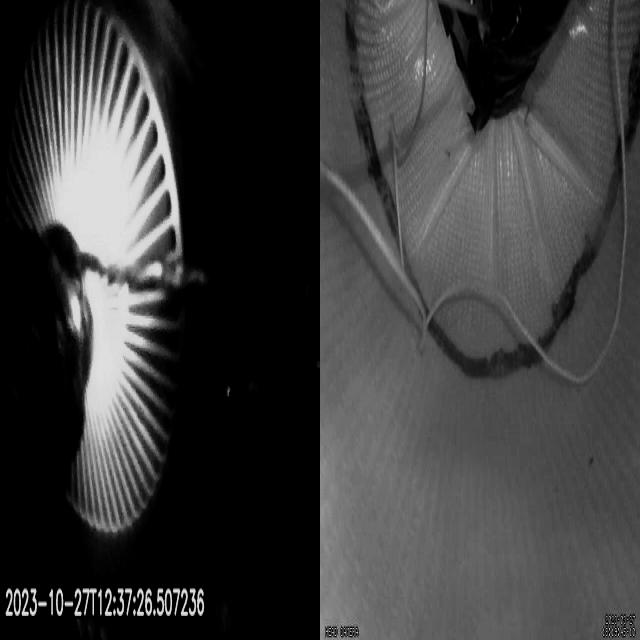red-circle: (343, 0, 640, 382)
